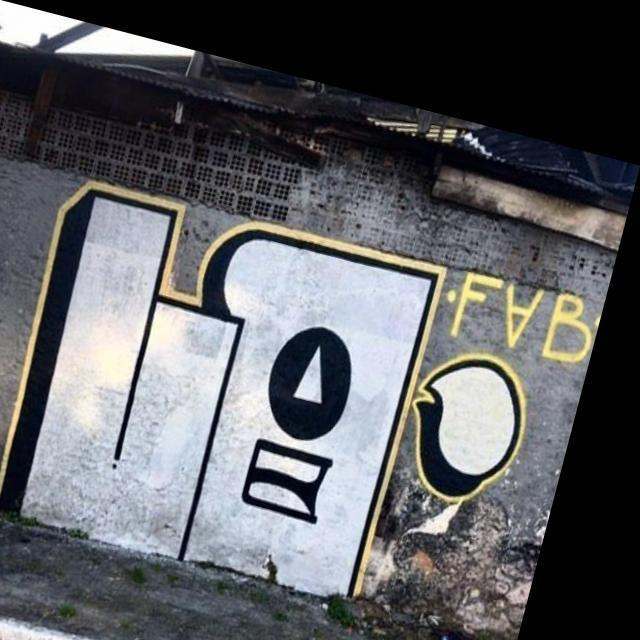-: (0, 167, 570, 614)
